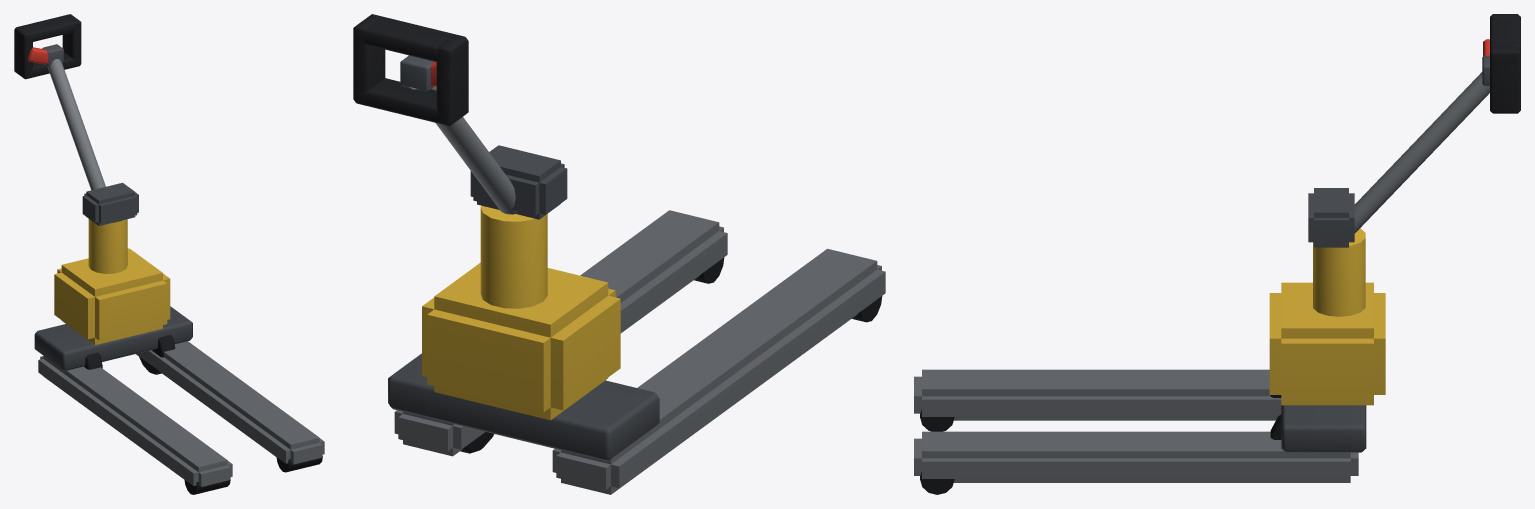
File: PalletJack_01.glb
3 renders of one model, left to right at view 1: azimuth 30°, elevation 25°; view 2: azimuth 150°, elevation 25°; view 3: azimuth 270°, elevation 25°, orthographic. The views are drawn at different scales.
Parts seen in each view (by area): view 1: SM_PalletJack_01; view 2: SM_PalletJack_01; view 3: SM_PalletJack_01.
Boxes of the visible parts, <box> form: SM_PalletJack_01: <box>14,14,324,494</box>; SM_PalletJack_01: <box>353,14,885,494</box>; SM_PalletJack_01: <box>914,14,1520,494</box>.
Size of the model in its own units: 0.54 by 1.2 by 1.57.
1 material, 1 textured.
